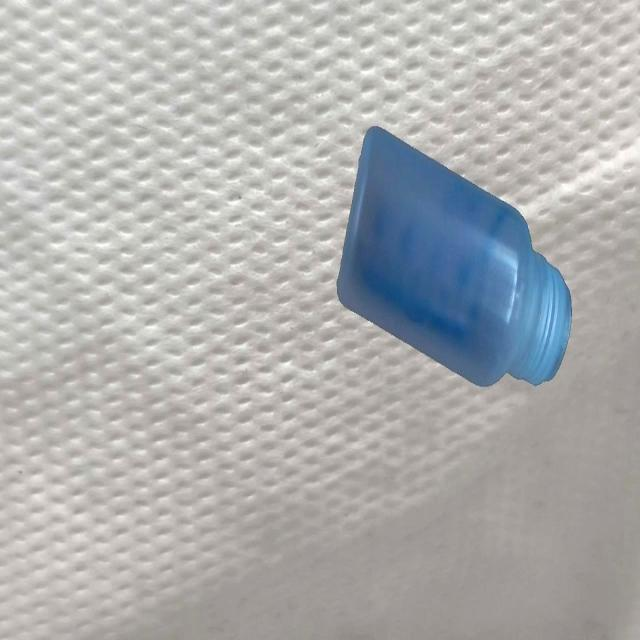bottle: (336, 123, 574, 393)
